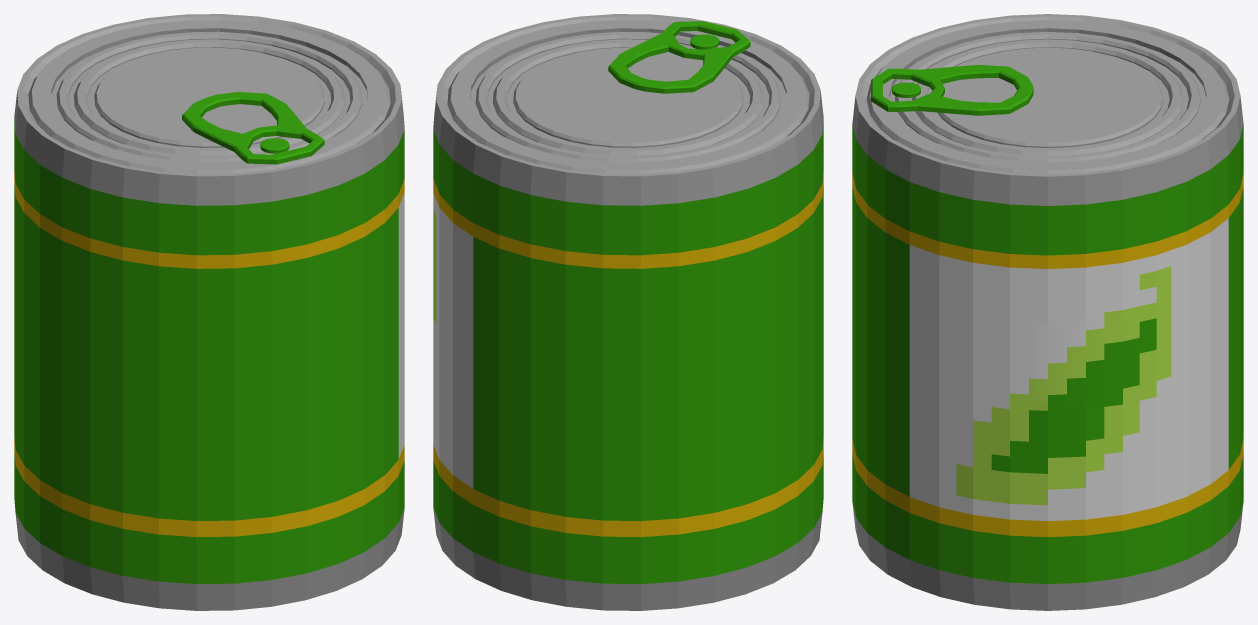
Rendered from soup_pea.fbx.
3 views of the same model, side by side, from view 1: azimuth 30°, elevation 25°; view 2: azimuth 150°, elevation 25°; view 3: azimuth 270°, elevation 25° (orthographic).
Visible parts, largest first — view 1: Cylinder.001, Cube; view 2: Cylinder.001, Cube; view 3: Cylinder.001, Cube.
Boxes of the visible parts, left/top/right/bottom form: Cylinder.001: left=14, top=14, right=404, bottom=610; Cube: left=182, top=92, right=324, bottom=164; Cylinder.001: left=433, top=14, right=823, bottom=610; Cube: left=608, top=21, right=750, bottom=93; Cylinder.001: left=852, top=14, right=1243, bottom=610; Cube: left=871, top=65, right=1033, bottom=115.
Size of the model in its own units: 19.36 by 24.08 by 19.36.
